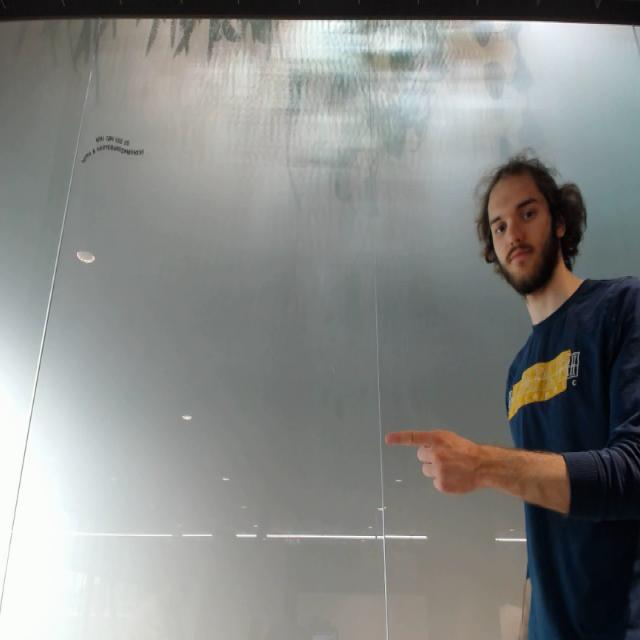left: (378, 406, 489, 508)
